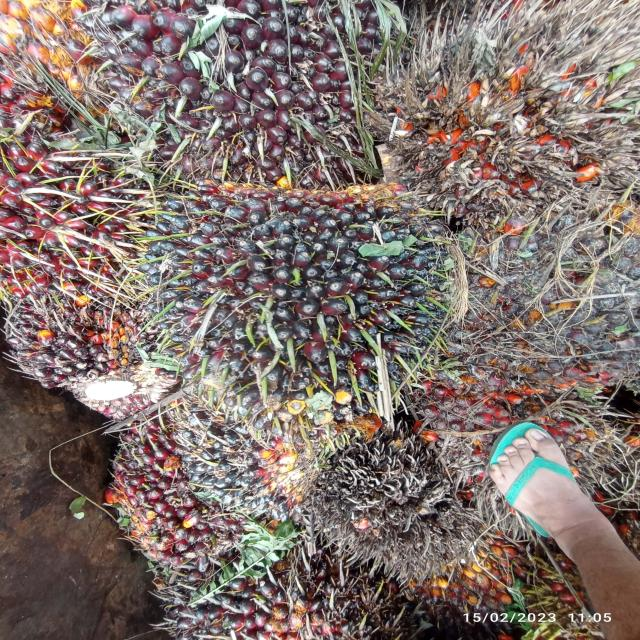fraksi 00: (131, 179, 447, 402)
fraksi 1: (82, 0, 399, 164), (425, 187, 640, 417), (85, 407, 261, 589)
fraksi 4: (406, 1, 640, 212)
